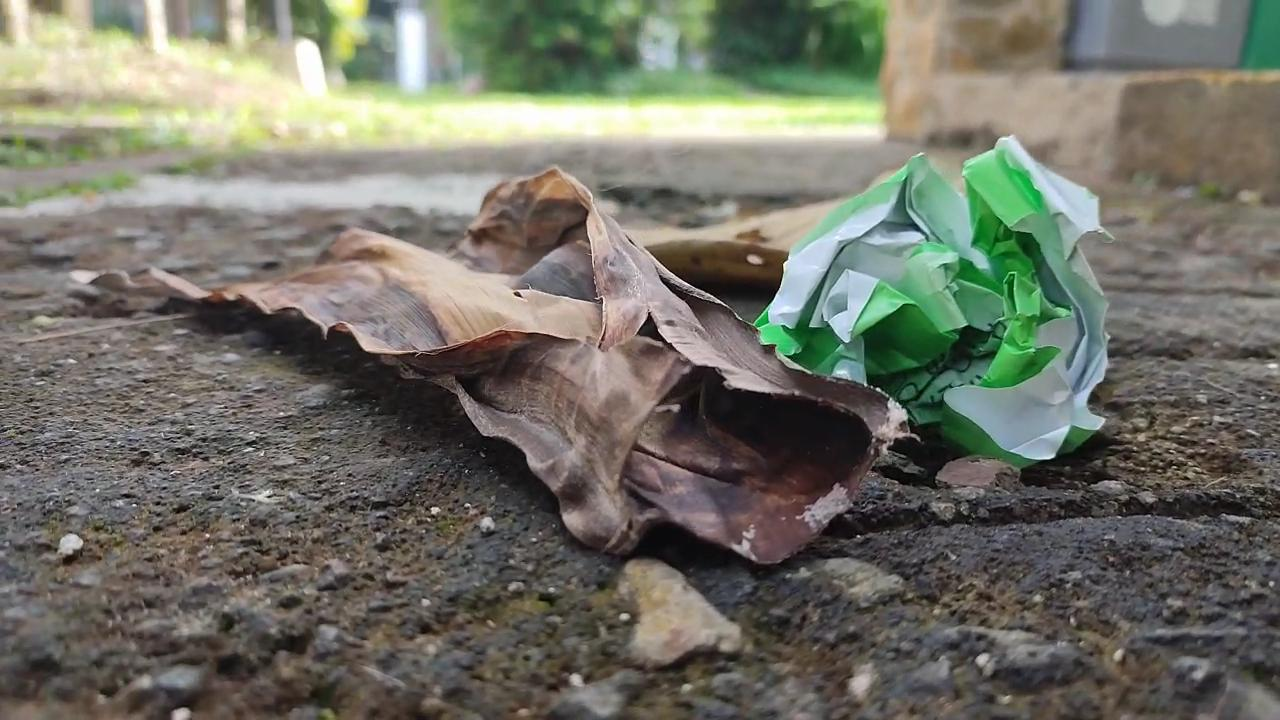Paper: (735, 132, 1118, 486)
